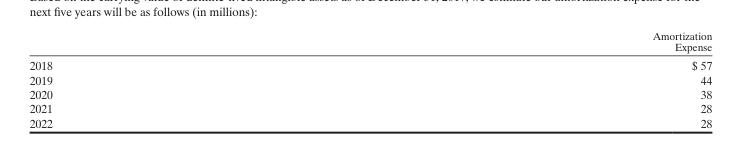table: (28, 29, 711, 129)
table column: (351, 29, 711, 129), (28, 29, 351, 129)
table column header: (28, 29, 711, 55)
table row: (28, 29, 711, 55), (28, 55, 711, 72), (28, 100, 711, 115), (28, 72, 711, 86), (28, 86, 711, 100), (28, 115, 711, 129)
